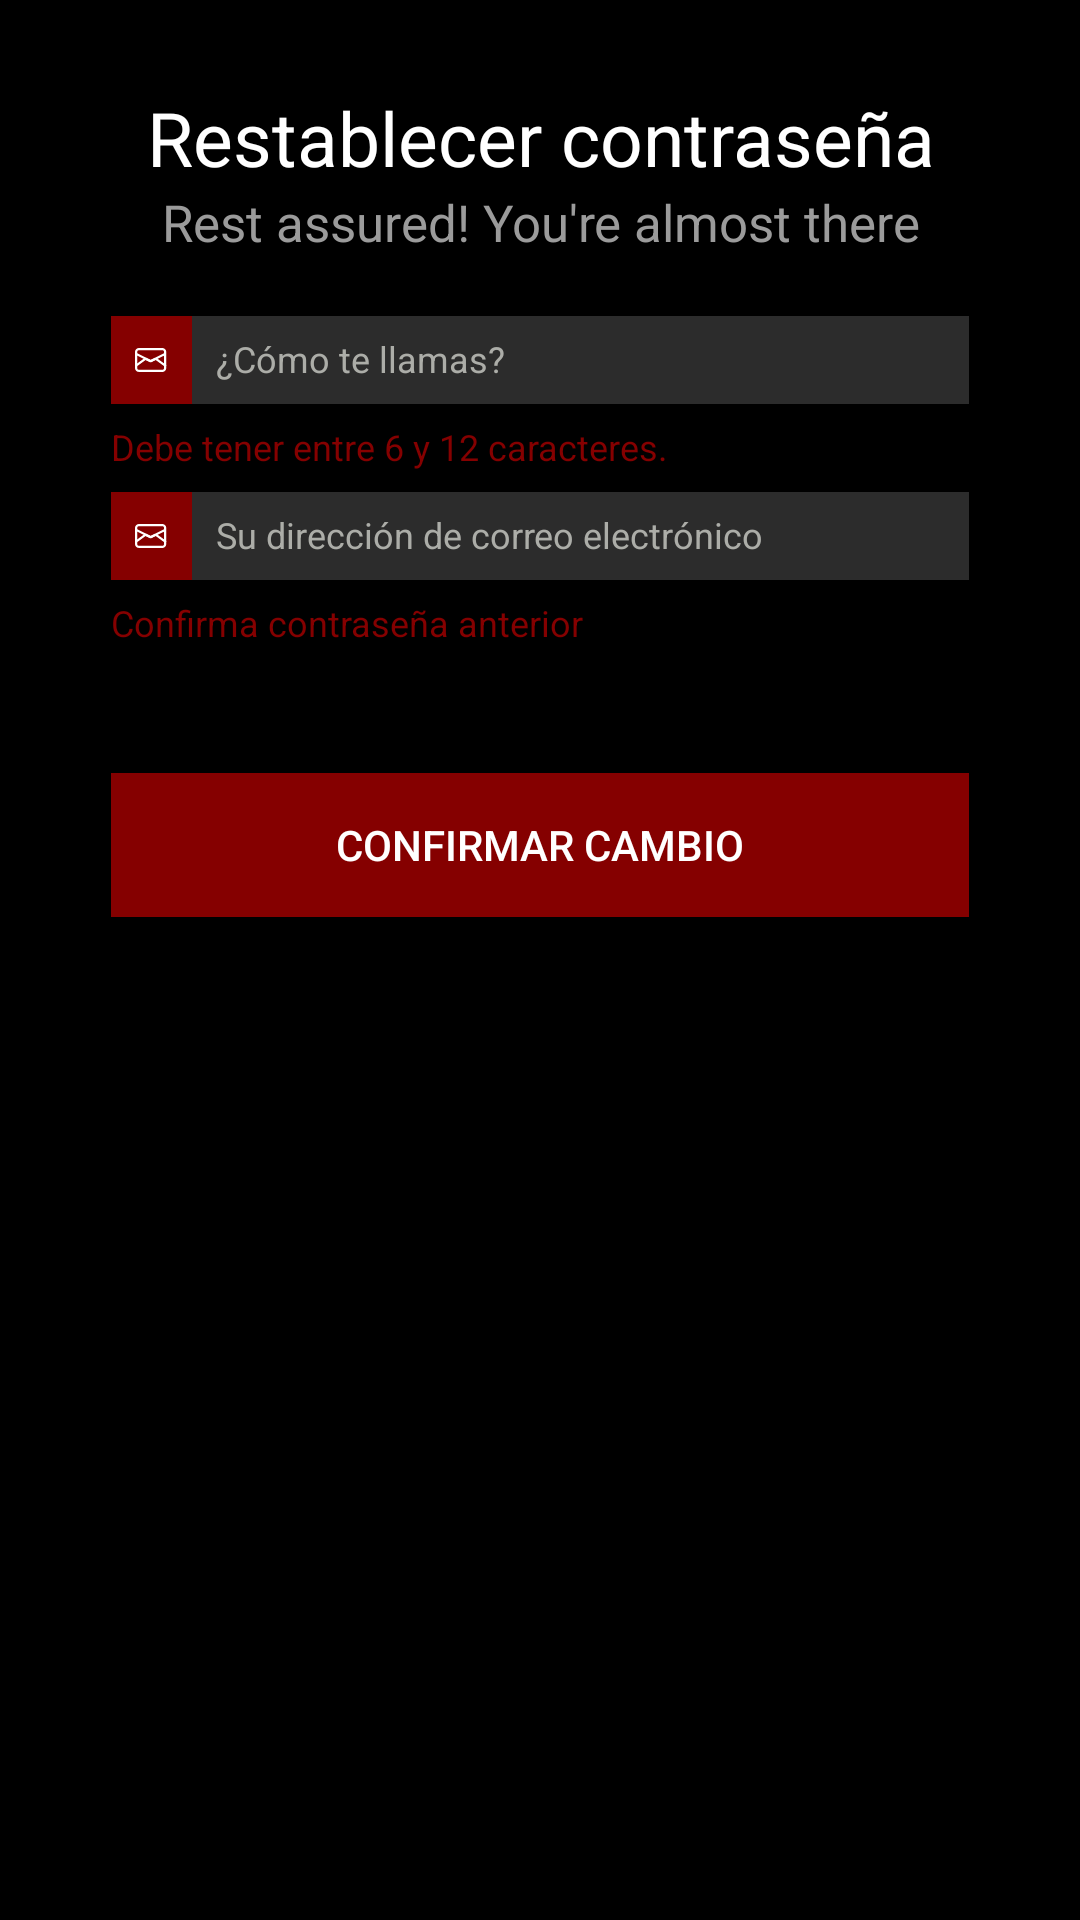

Icon bounding boxes for this 1080x1920 phone screenshot, format box(x1, y1, x2, y2):
mail: box(111, 316, 192, 404), box(111, 492, 192, 580)
